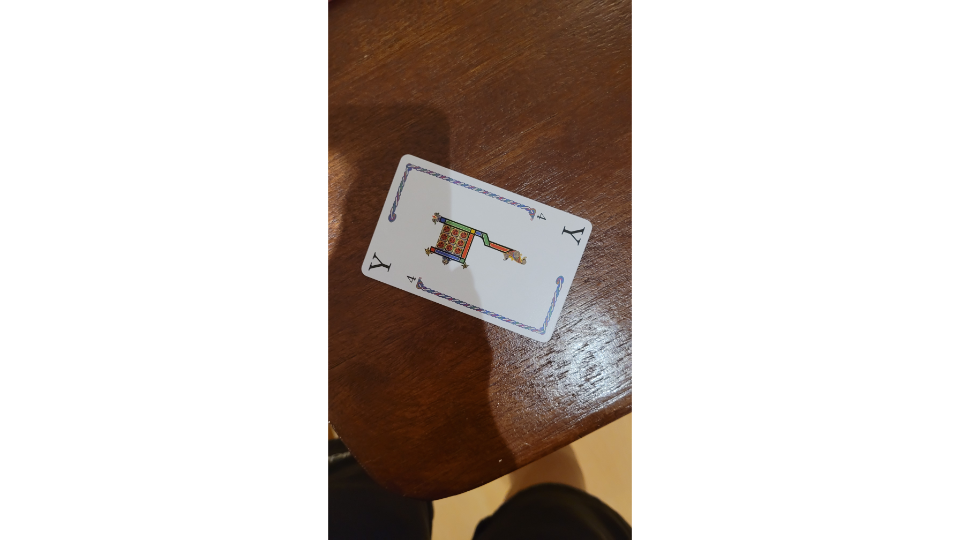Y: (359, 153, 594, 344)
